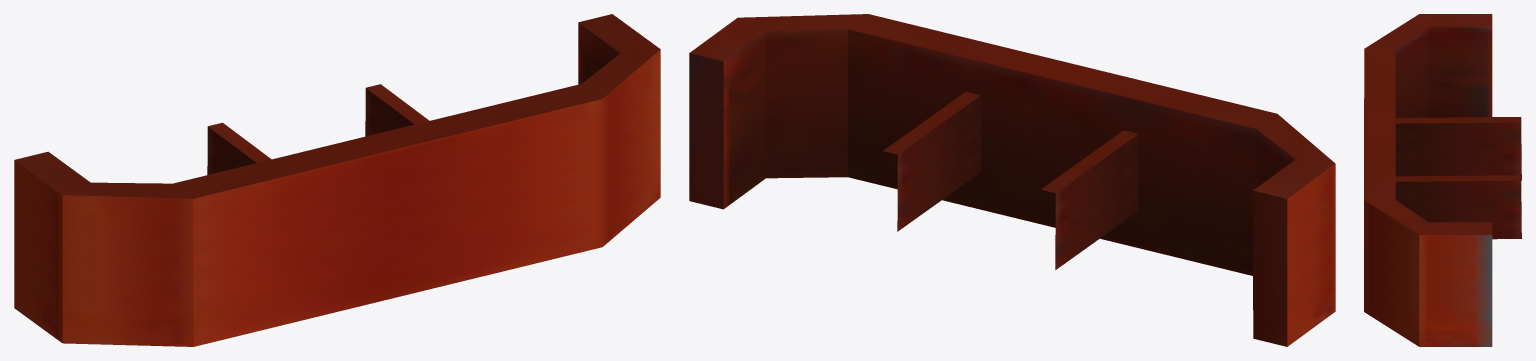
Rendered from Kart 4 Spoiler.glb.
3 renders of one model, left to right at view 1: azimuth 30°, elevation 25°; view 2: azimuth 150°, elevation 25°; view 3: azimuth 270°, elevation 25°, orthographic. The views are drawn at different scales.
Parts seen in each view (by area): view 1: spoiler; view 2: spoiler; view 3: spoiler.
Part boxes in pixels (x1,y1,x2,y2): spoiler: (14,14,660,346); spoiler: (689,14,1335,346); spoiler: (1364,14,1521,346).
Size of the model in its own units: 1.56 by 0.3707 by 0.4724.
Materials: 1 (1 with a texture image).
